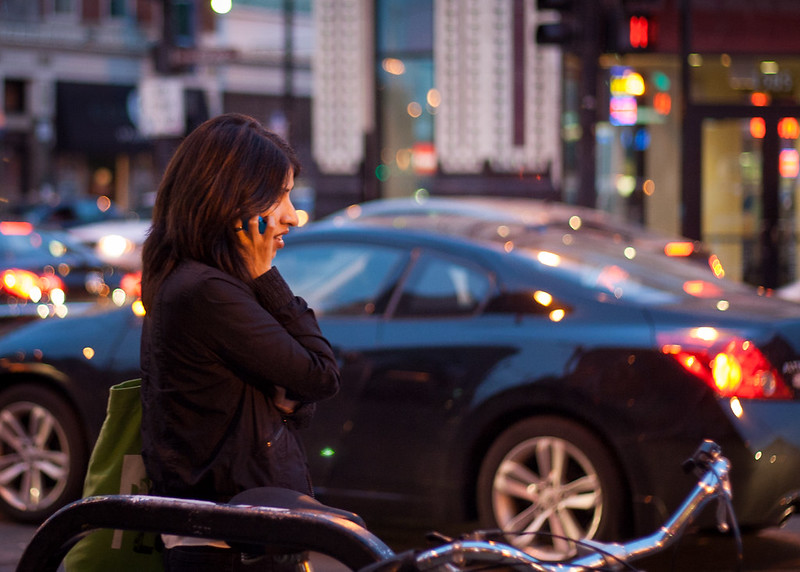phone: (219, 189, 271, 248)
talk: (225, 158, 295, 279)
